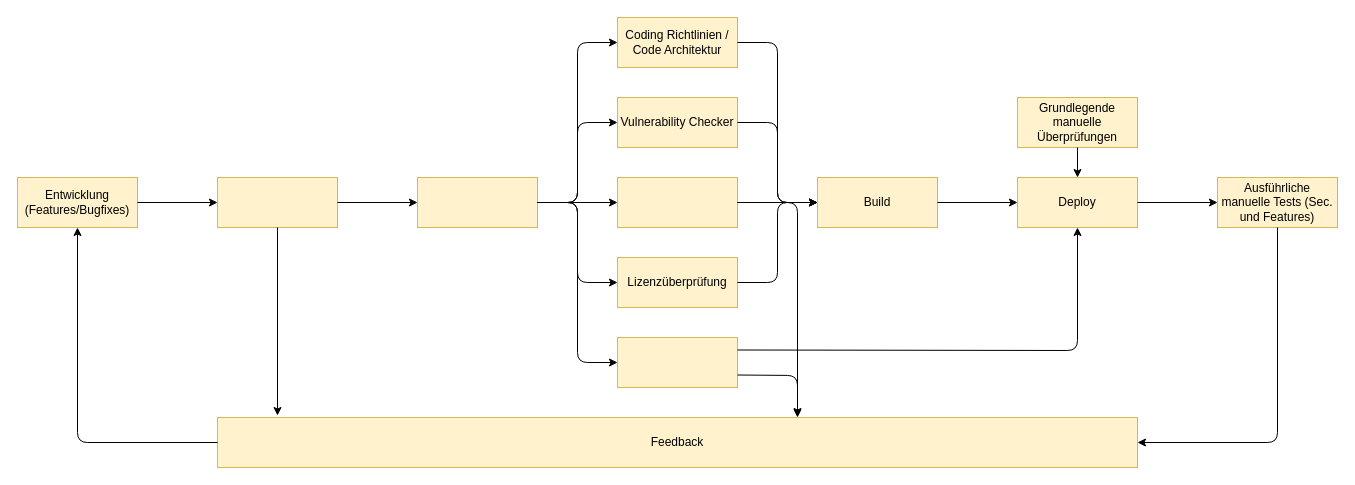
Some shapes in this 1355 by 485 pixel diagram are drawn without their labels. Here are the shapes that lost their labels. From the top down, the centre of each, then its label:
point (277, 202): Lokale Tests
point (477, 202): Git Push
point (677, 202): Test- / Code-Abdeckung
point (677, 362): DAST
